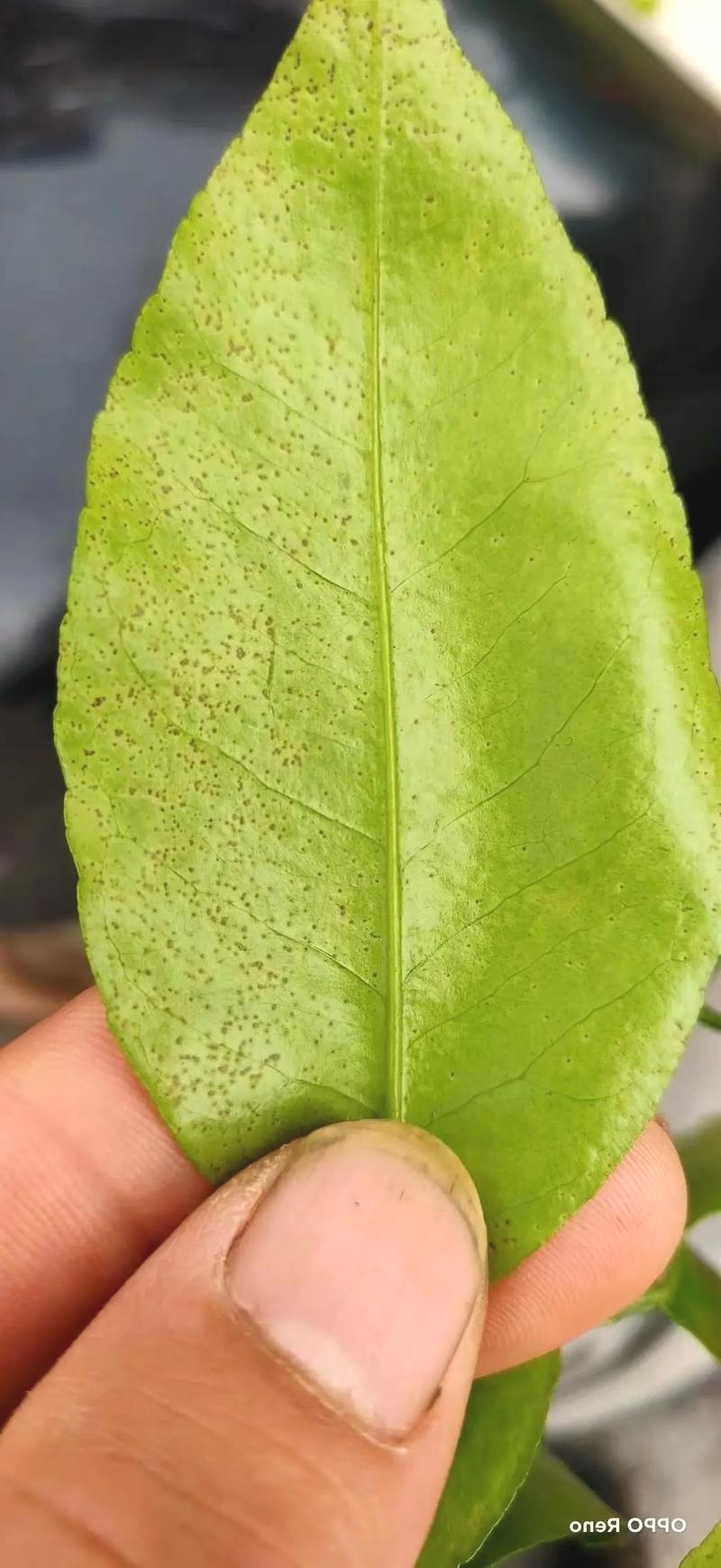Anthracnose: (70, 24, 430, 1210)
